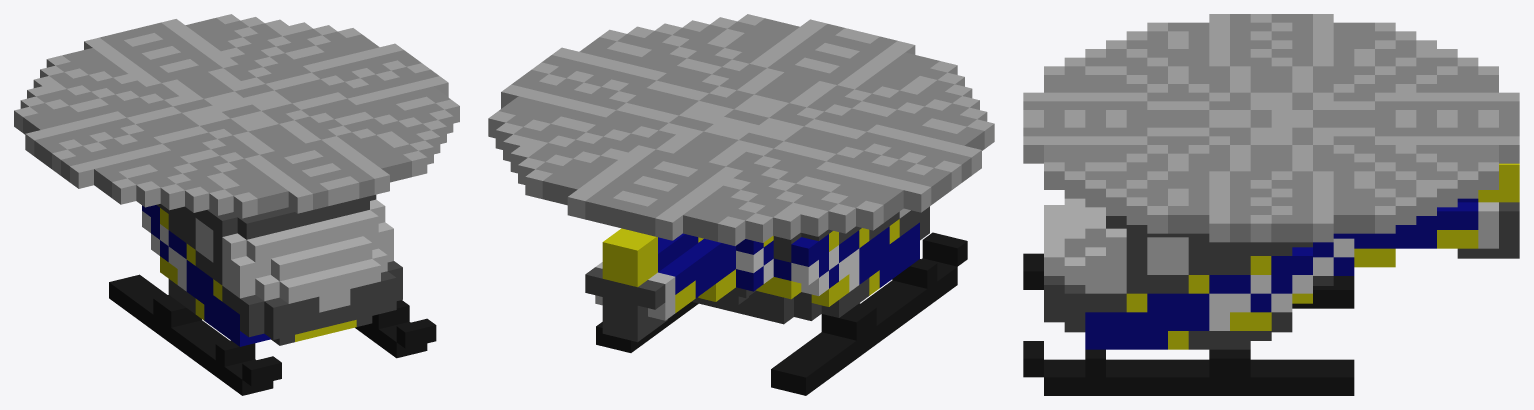
Rendered from copter.obj.
3 renders of one model, left to right at view 1: azimuth 30°, elevation 25°; view 2: azimuth 150°, elevation 25°; view 3: azimuth 270°, elevation 25°, orthographic. The views are drawn at different scales.
Bounding box in the file's own units: 24 × 12 × 24.
Materials: 1 (1 with a texture image).
